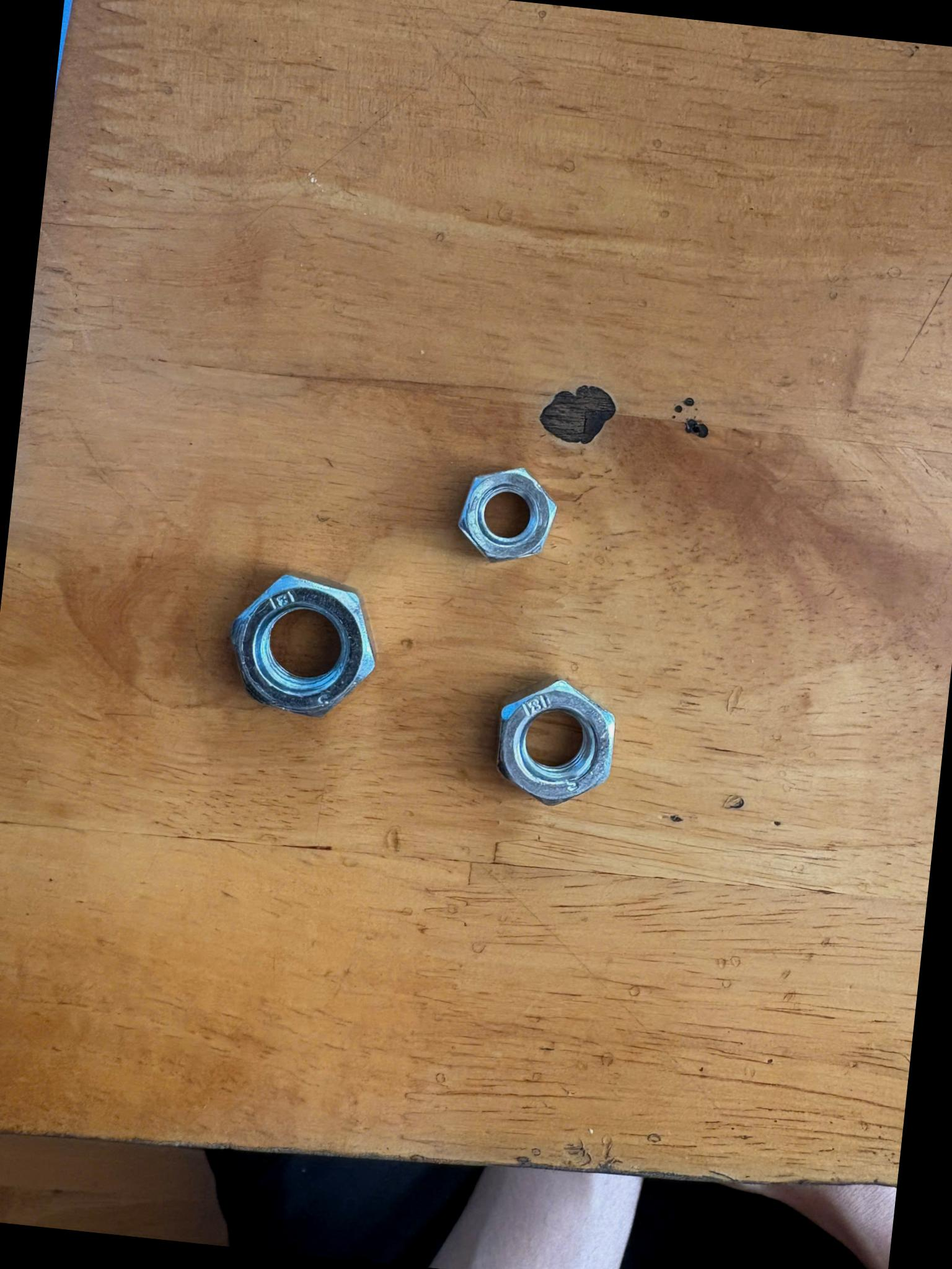nut: (206, 561, 390, 731), (443, 451, 570, 580)
